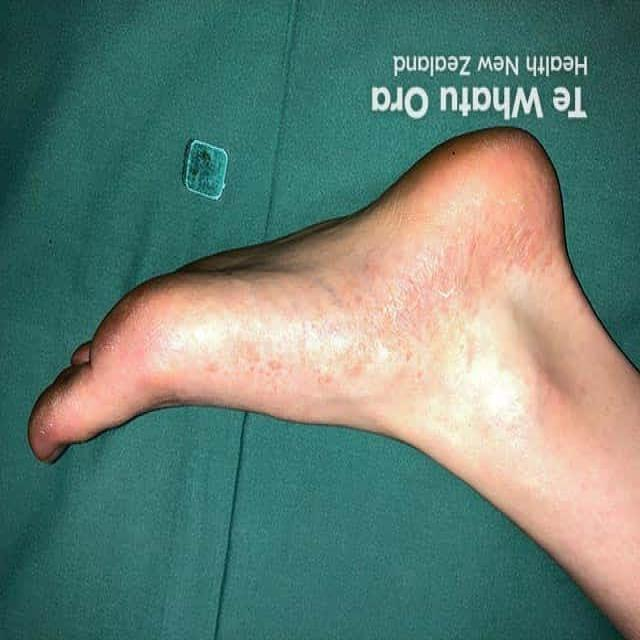Eczema: (201, 187, 554, 389)
